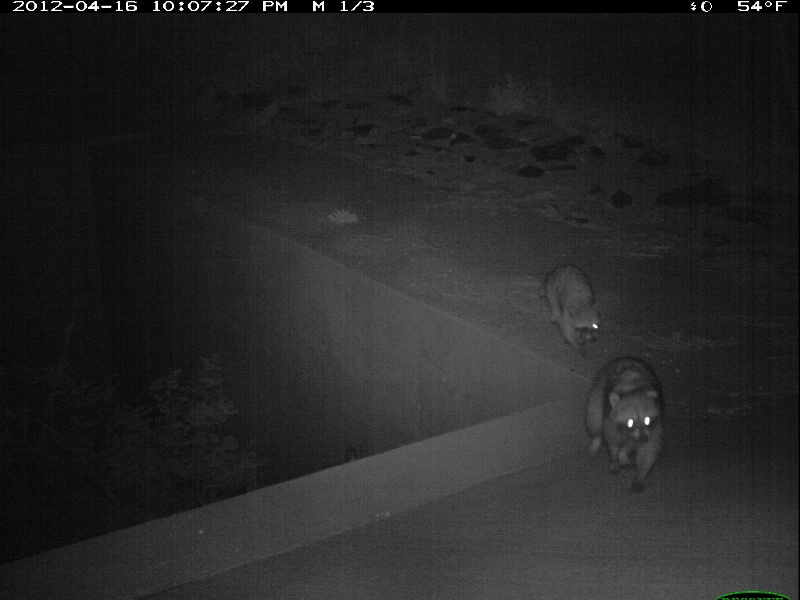raccoon: (584, 352, 669, 489), (541, 263, 605, 360)
